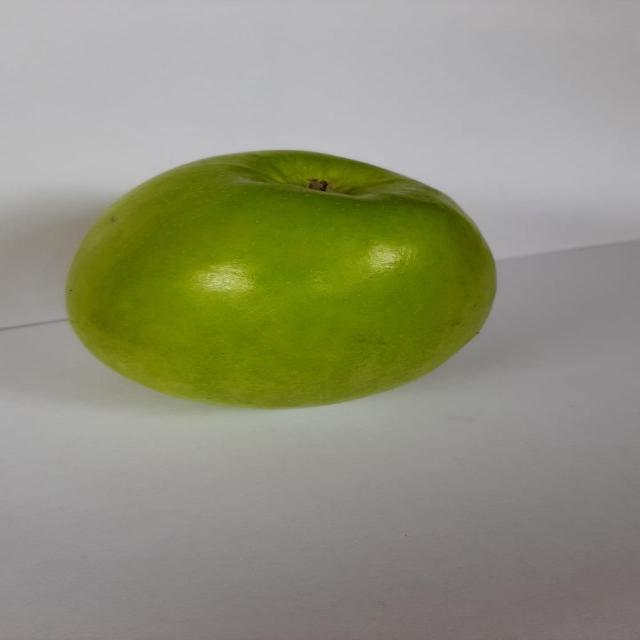50-_ripeness: (52, 139, 509, 415)
